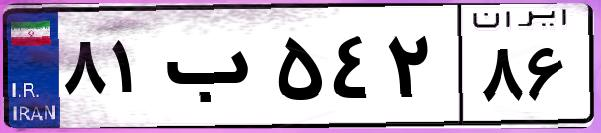1: (110, 28, 158, 98)
2: (385, 28, 445, 110)
4: (330, 28, 385, 110)
5: (270, 28, 330, 110)
6: (525, 38, 570, 115)
8: (57, 26, 110, 100), (475, 38, 525, 113)
ب: (158, 20, 270, 120)
